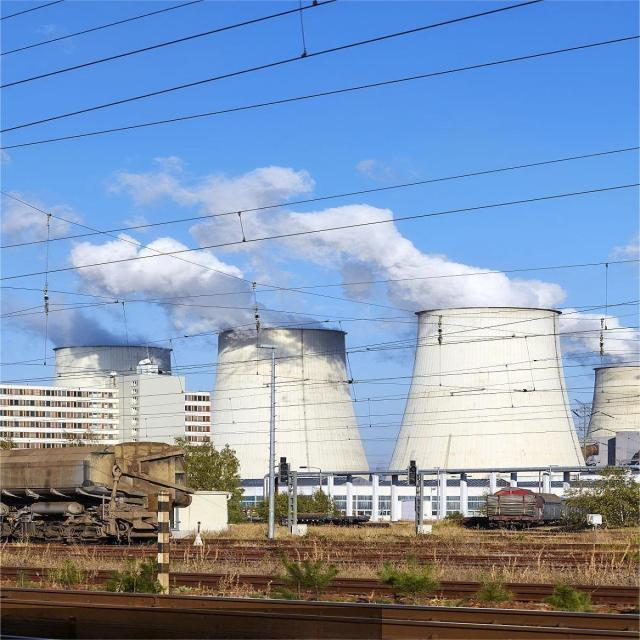Smoke: (68, 172, 560, 327), (560, 306, 640, 365)
